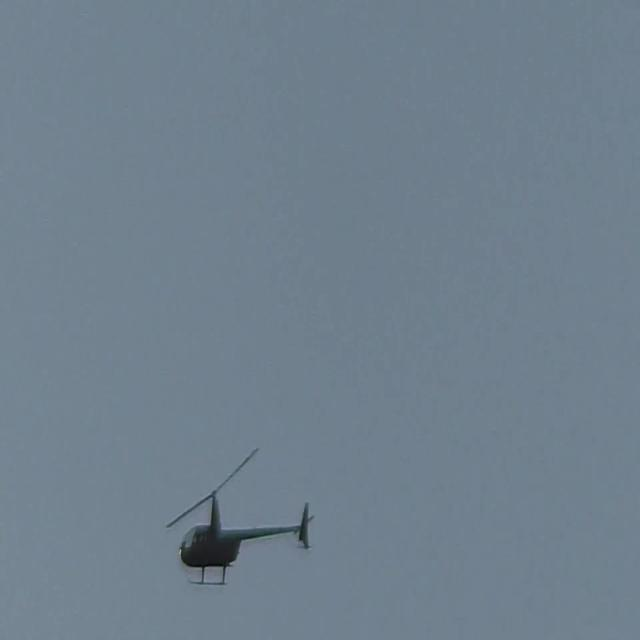CIV_HELO: (180, 491, 314, 588)
